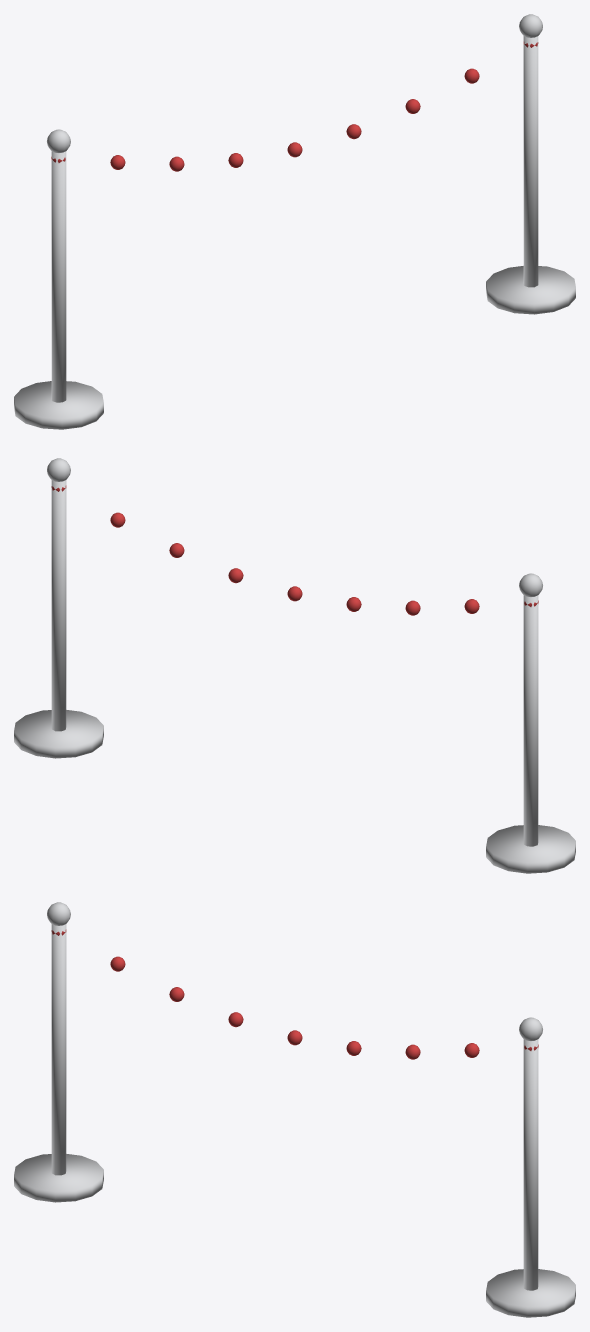
The model's file is stanchions.glb.
The picture shows the model from 3 angles, top to bottom: view 1: azimuth 30°, elevation 25°; view 2: azimuth 150°, elevation 25°; view 3: azimuth 330°, elevation 25°; orthographic projection.
Parts seen in each view (by area): view 1: stanchions; view 2: stanchions; view 3: stanchions.
Boxes of the visible parts, x1,y1,x2,y2 form: stanchions: (14,14,575,429); stanchions: (14,458,575,873); stanchions: (14,902,575,1317).
Bounding box in the file's own units: 2.09 × 1.02 × 0.3.
